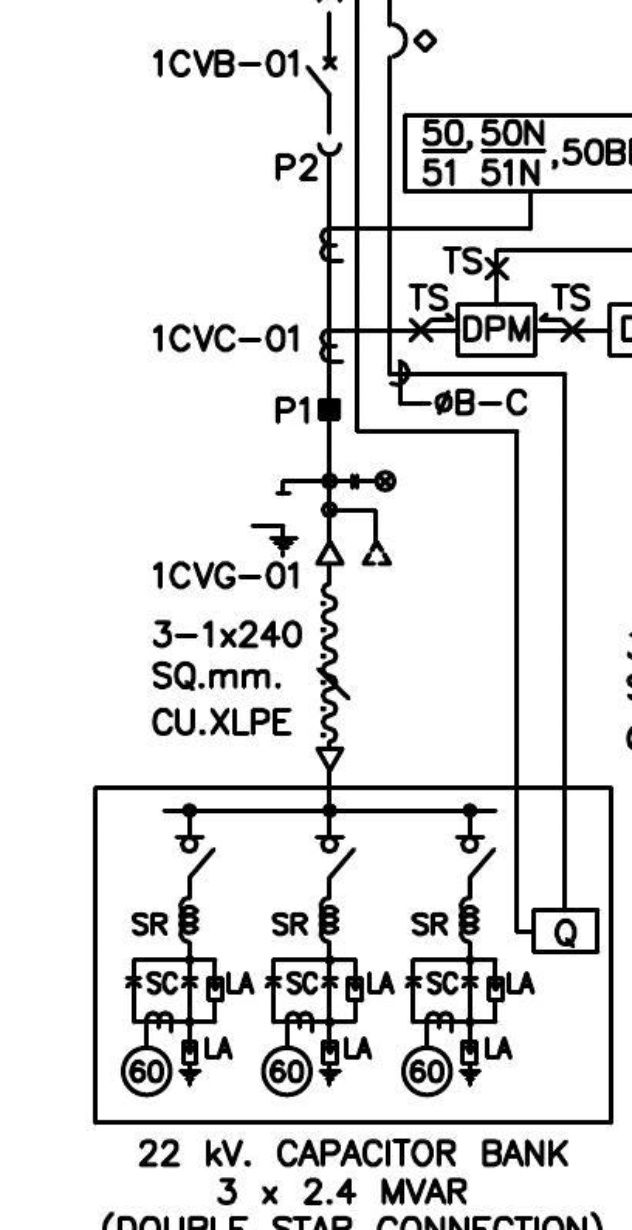22_cap_bank: (91, 784, 615, 1127)
22_gs: (248, 490, 300, 560)
22_ll: (349, 468, 398, 494)
DPM: (454, 301, 539, 359)
Q: (530, 907, 601, 956)
terminator_single: (314, 745, 347, 772)
terminator_w_future: (314, 506, 393, 567)
